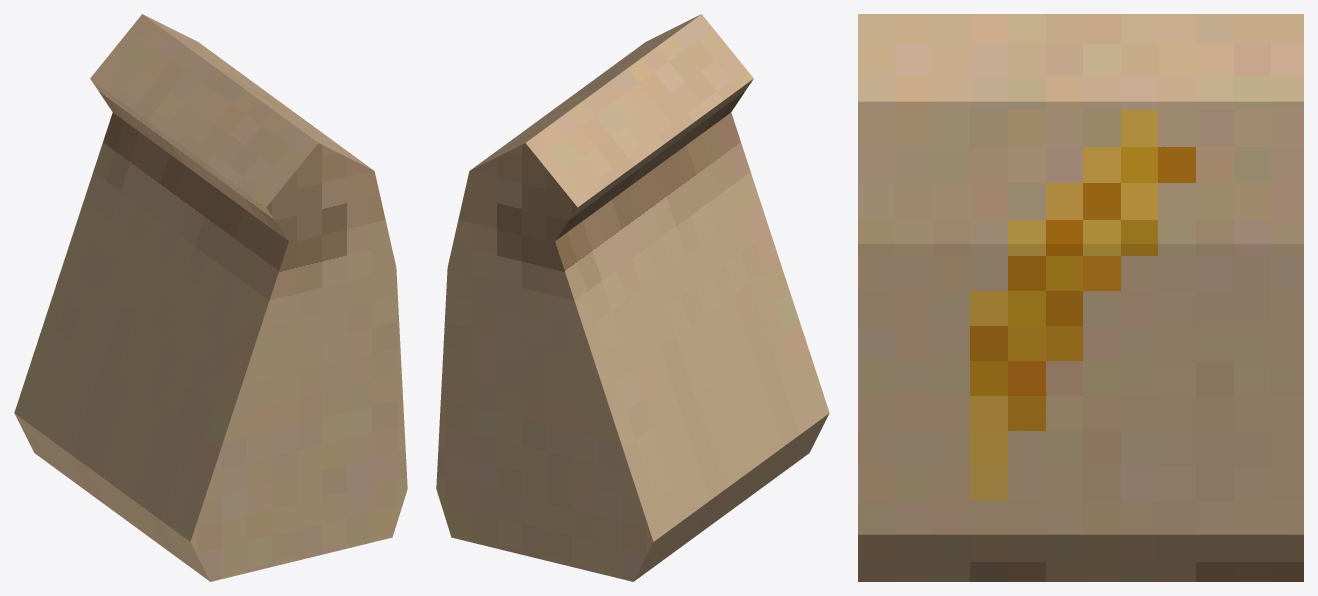
File: Flour.obj
3 renders of one model, left to right at view 1: azimuth 30°, elevation 25°; view 2: azimuth 150°, elevation 25°; view 3: azimuth 270°, elevation 25°, orthographic. The views are drawn at different scales.
Visible parts, largest first — view 1: pCube43; view 2: pCube43; view 3: pCube43.
Part boxes in pixels (x1,y1,x2,y2): pCube43: (14,14,407,581); pCube43: (436,14,829,581); pCube43: (858,14,1303,581).
Bounding box in the file's own units: 0.2847 × 0.5168 × 0.4.
1 material, 1 textured.
